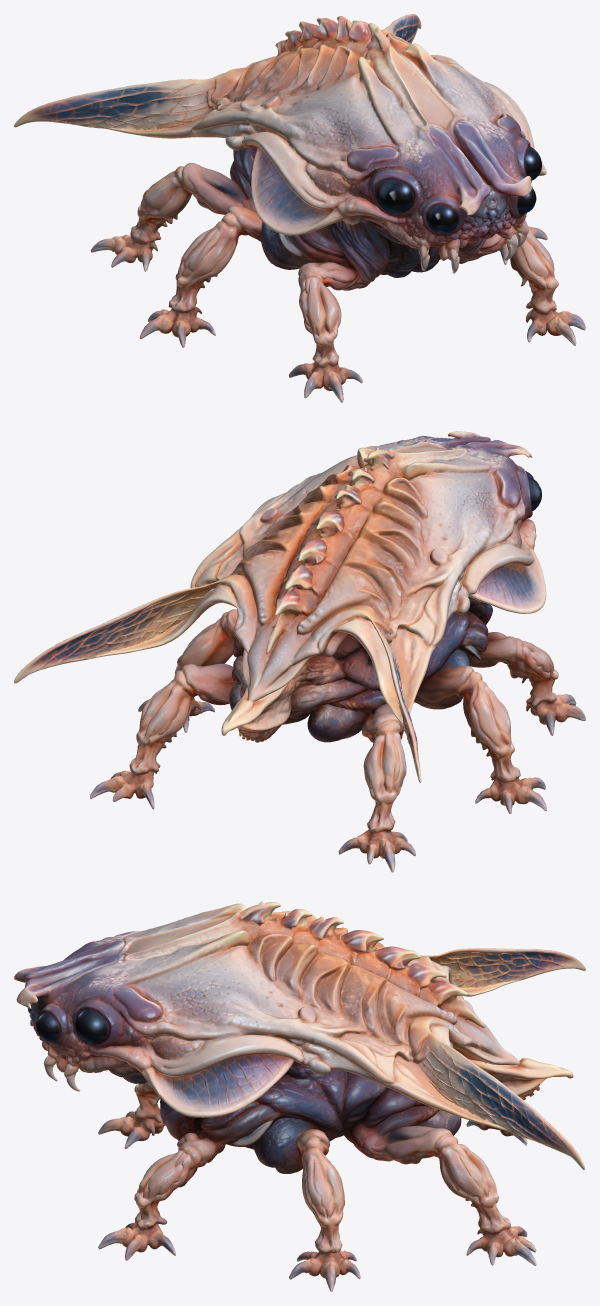
File: eph5.glb
The picture shows the model from 3 angles, top to bottom: view 1: azimuth 30°, elevation 25°; view 2: azimuth 150°, elevation 25°; view 3: azimuth 270°, elevation 25°; orthographic projection.
Visible parts, largest first — view 1: tripo_node_68b94e3b-39cf-4770-b67c-286a0301fa7c; view 2: tripo_node_68b94e3b-39cf-4770-b67c-286a0301fa7c; view 3: tripo_node_68b94e3b-39cf-4770-b67c-286a0301fa7c.
Part boxes in pixels (box(x1,y1,x2,y2)): tripo_node_68b94e3b-39cf-4770-b67c-286a0301fa7c: box(14, 14, 585, 402); tripo_node_68b94e3b-39cf-4770-b67c-286a0301fa7c: box(14, 431, 585, 872); tripo_node_68b94e3b-39cf-4770-b67c-286a0301fa7c: box(14, 901, 585, 1291).
Bounding box in the file's own units: 0.8155 × 0.5506 × 0.9815.
Materials: 1 (1 with a texture image).
